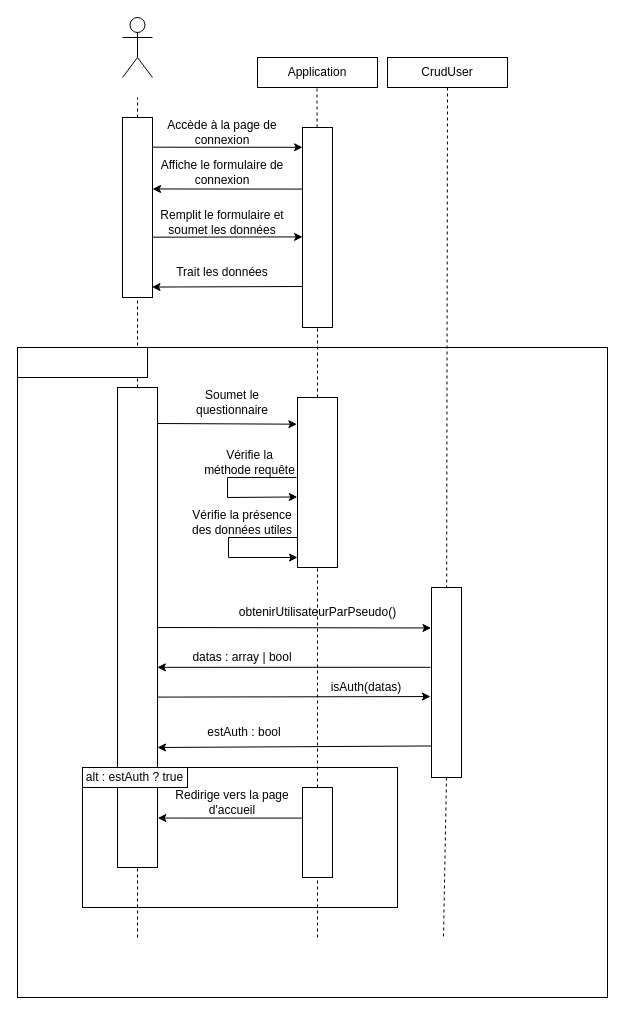
Some shapes in this 625 by 1015 pixel diagram are drawn without their labels. Here are the shapes that lost their labels. From the top down, the box of each, then its label:
(122, 16, 152, 78): Utilisateur
(16, 346, 148, 378): alt : POST method est reçu
